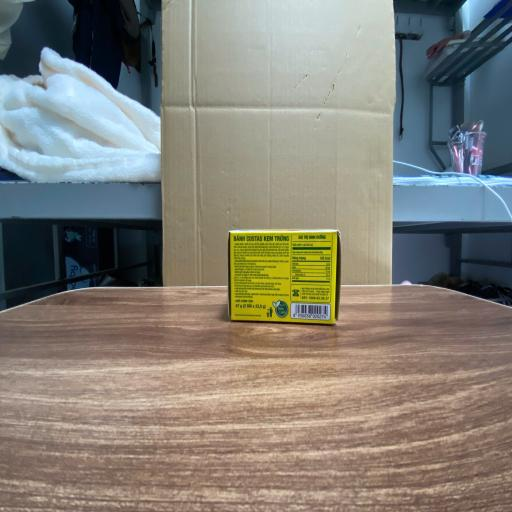custas: (227, 230, 341, 326)
